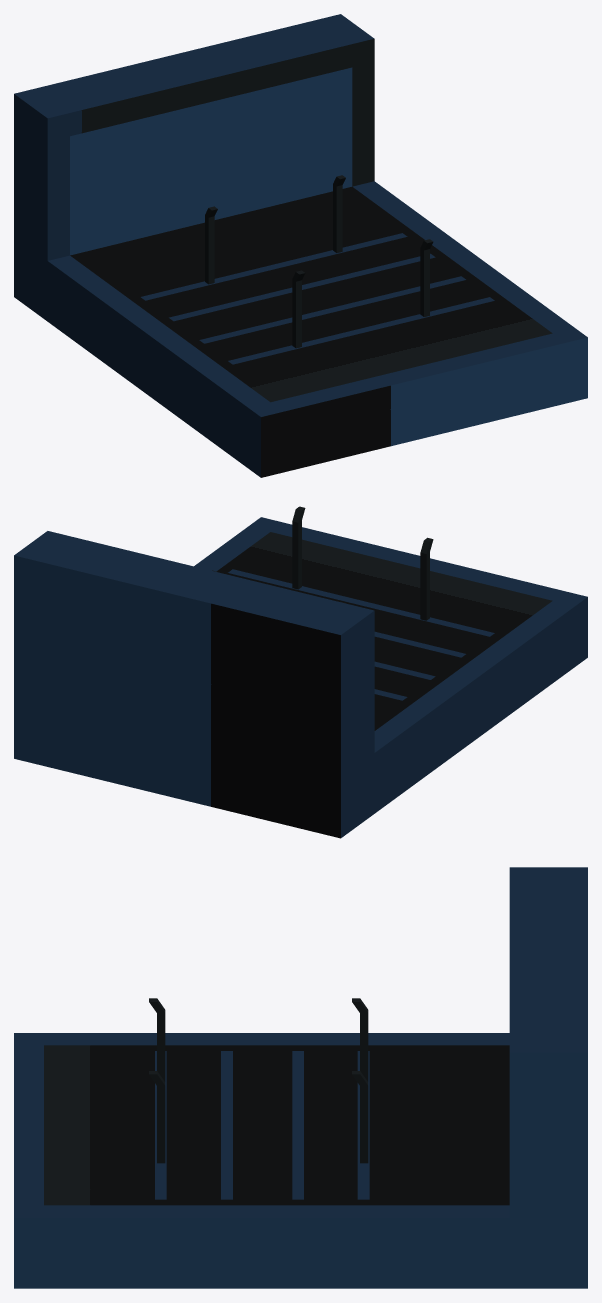
The picture shows the model from 3 angles, top to bottom: view 1: azimuth 30°, elevation 25°; view 2: azimuth 150°, elevation 25°; view 3: azimuth 270°, elevation 25°; orthographic projection. The views are drawn at different scales.
Bounding box in the file's own units: 0.84 × 0.4993 × 1.1.
